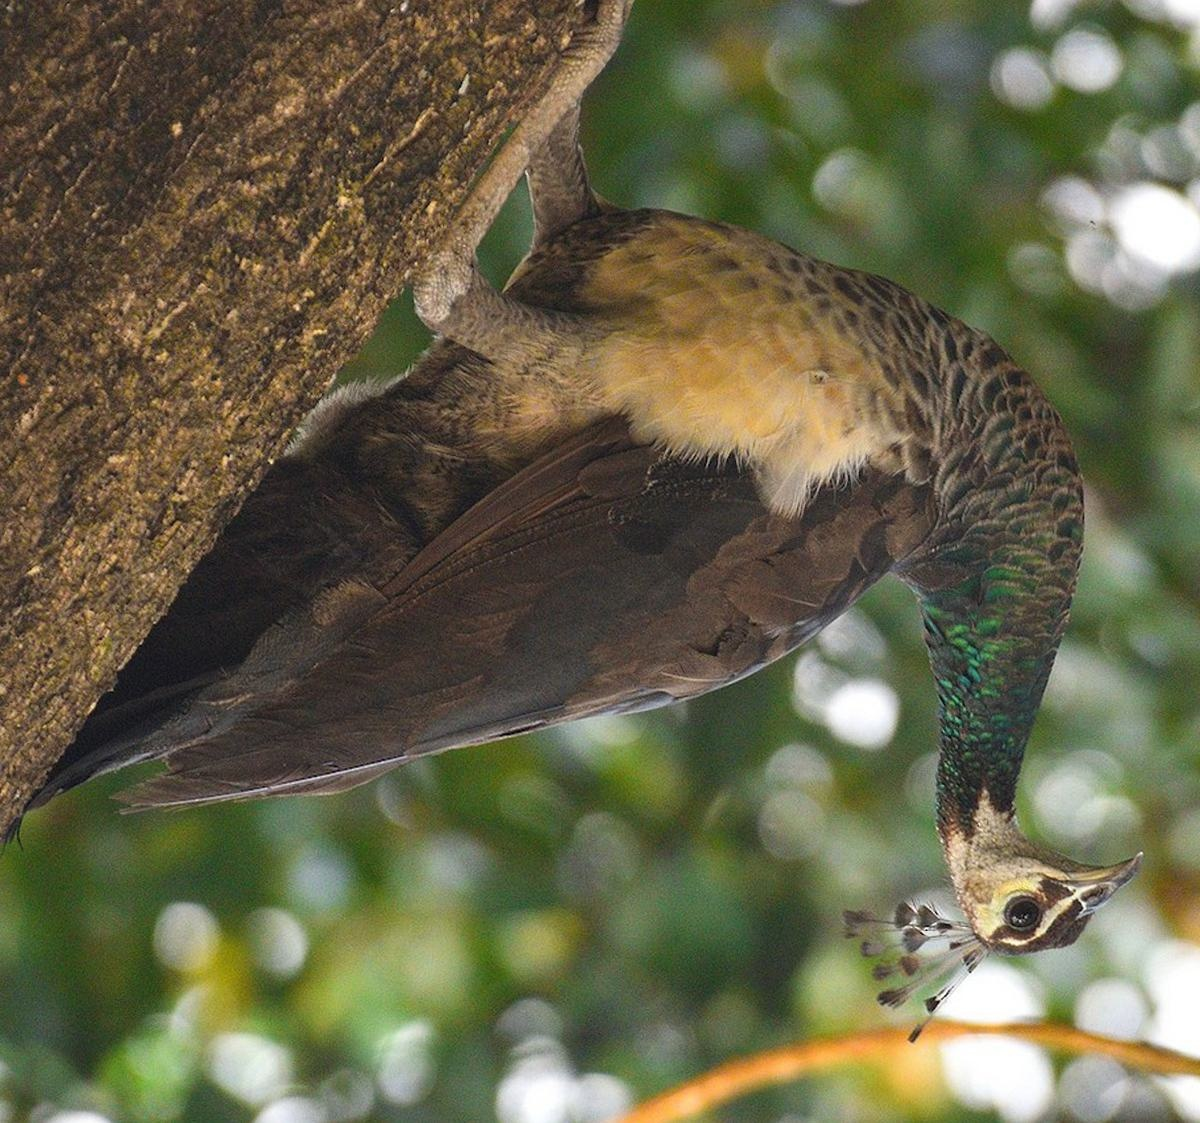peacock: (1, 234, 1182, 979)
